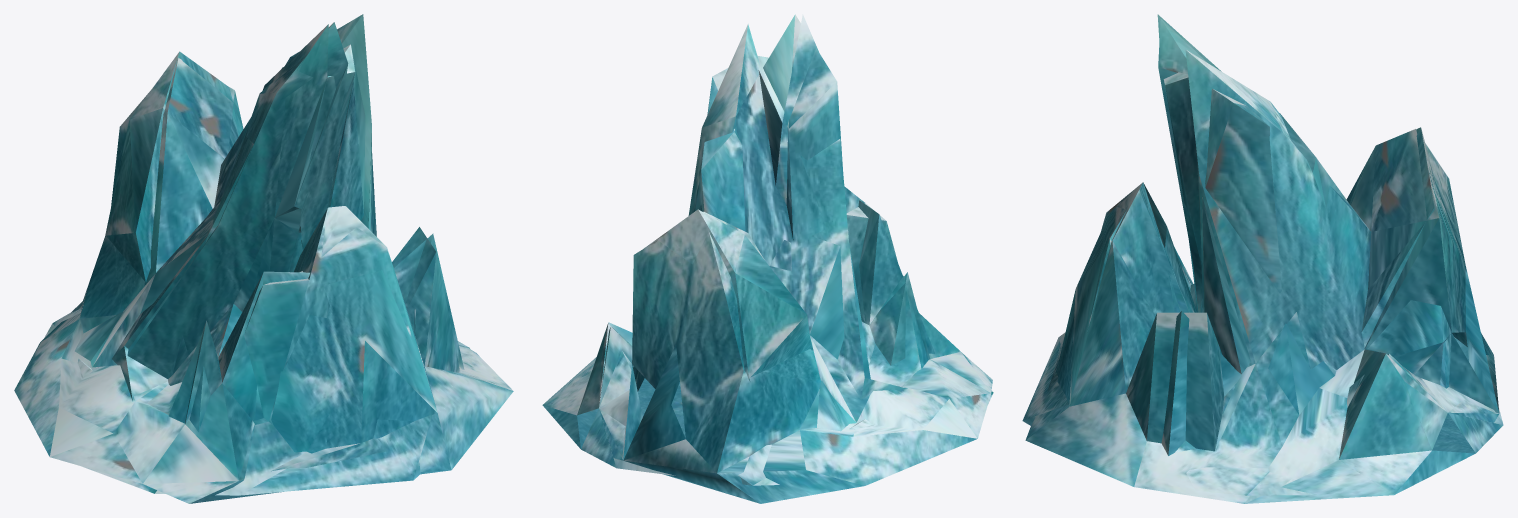
3 views of the same model, side by side, from view 1: azimuth 30°, elevation 25°; view 2: azimuth 150°, elevation 25°; view 3: azimuth 270°, elevation 25° (orthographic). The views are drawn at different scales.
Parts seen in each view (by area): view 1: glacier-spires.002; view 2: glacier-spires.002; view 3: glacier-spires.002.
Boxes of the visible parts, box(x1,y1,x2,y2) form: glacier-spires.002: box(14, 14, 513, 503); glacier-spires.002: box(542, 14, 993, 503); glacier-spires.002: box(1022, 14, 1503, 503).
Size of the model in its own units: 14.41 by 13.13 by 14.23.
Materials: 1 (1 with a texture image).
